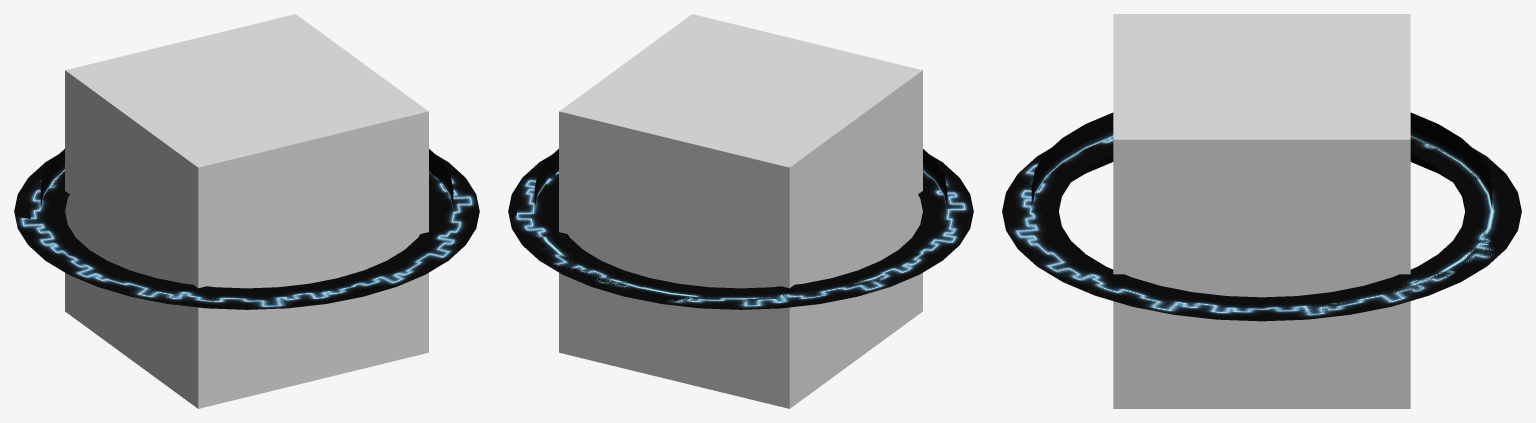
File: Hangar_Cube_01.FBX
The picture shows the model from 3 angles, left to right: view 1: azimuth 30°, elevation 25°; view 2: azimuth 150°, elevation 25°; view 3: azimuth 270°, elevation 25°; orthographic projection. The views are drawn at different scales.
Visible parts, largest first — view 1: Box001, Plane001, Plane006; view 2: Box001, Plane001, Plane006; view 3: Box001, Plane001, Plane006.
Boxes of the visible parts, left/top/right/bottom form: Box001: left=65, top=14, right=428, bottom=408; Plane001: left=14, top=154, right=479, bottom=309; Plane006: left=16, top=149, right=453, bottom=292; Box001: left=559, top=14, right=922, bottom=408; Plane001: left=508, top=154, right=973, bottom=309; Plane006: left=510, top=149, right=947, bottom=307; Box001: left=1113, top=14, right=1410, bottom=408; Plane001: left=1002, top=137, right=1521, bottom=321; Plane006: left=1031, top=112, right=1519, bottom=318.
Size of the model in its own units: 112 by 64 by 112.
